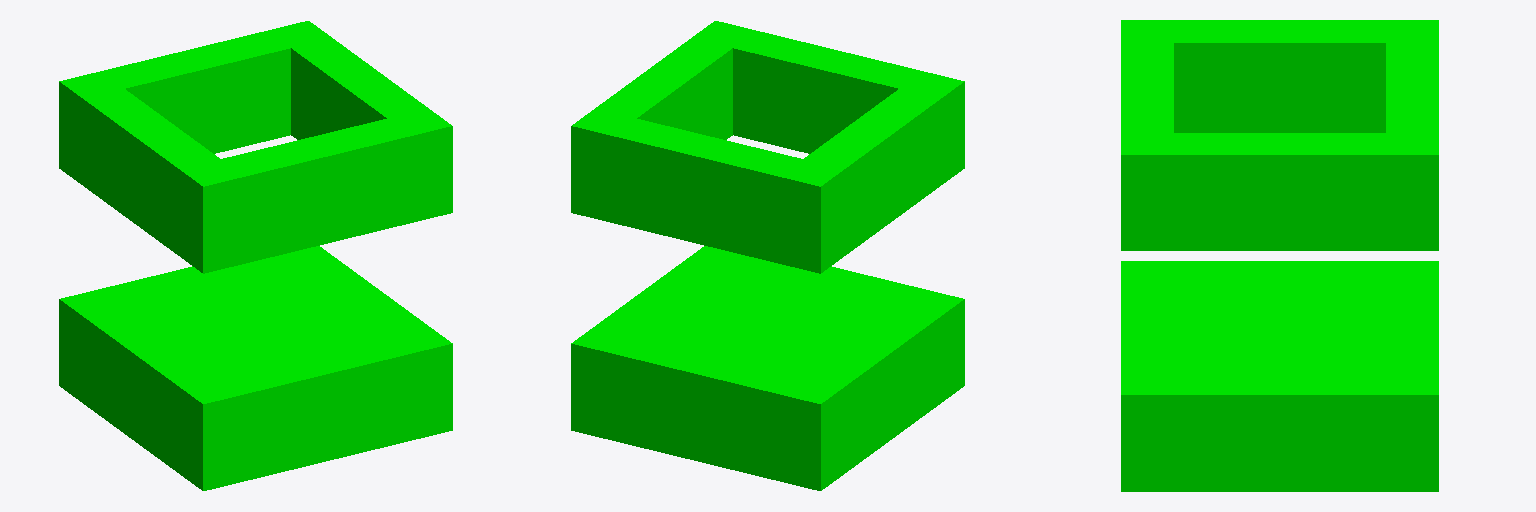
URDF robot description (root):
<?xml version="0.0" ?>
<robot name="root">
  <link name="base">
    <inertial>
      <origin rpy="0 0 0" xyz="0 0 0"/>
      <mass value="0.001"/>
      <inertia ixx="-4.46E-06" ixy="-4.55E-07" ixz="1.95E-06" iyy="-2.47E-06" iyz="8.51E-08" izz="2.17E-06"/>
    </inertial>
    <visual>
      <origin rpy="0 0 0" xyz="0 0 -0.05"/>
      <geometry>
        <box size=".06 .06 0.02"/>
      </geometry>
      <material name="green">
      </material> 
    </visual>
    <collision>
      <origin rpy="0 0 0" xyz="0 0 -0.05"/>
      <geometry>
        <box size=".06 .06 0.02"/>
      </geometry>
    </collision>
  </link>

  <link name="left">
    <inertial>
      <origin rpy="0 0 0" xyz="0 0 0"/>
      <mass value="0.001"/>
      <inertia ixx="-4.46E-06" ixy="-4.55E-07" ixz="1.95E-06" iyy="-2.47E-06" iyz="8.51E-08" izz="2.17E-06"/>
    </inertial>
    <visual>
      <origin rpy="0 0 0" xyz="0.025 0.0 0"/>
      <geometry>
        <box size=".01 .06 0.02"/>
      </geometry>
      <material name="green">
      </material> 
    </visual>
    <collision>
      <origin rpy="0 0 0" xyz="0 0 0"/>
      <geometry>
        <box size=".01 .06 0.02"/>
      </geometry>
    </collision>
  </link>

  <joint name="left_joint" type="fixed">
    <origin rpy="0 0 0" xyz="0 0 0"/>
    <parent link="base"/>
    <child link="left"/>
  </joint>

  <link name="right">
    <inertial>
      <origin rpy="0 0 0" xyz="0 0 0"/>
      <mass value="0.001"/>
      <inertia ixx="-4.46E-06" ixy="-4.55E-07" ixz="1.95E-06" iyy="-2.47E-06" iyz="8.51E-08" izz="2.17E-06"/>
    </inertial>
    <visual>
      <origin rpy="0 0 0" xyz="-0.025 0.0 0"/>
      <geometry>
        <box size=".01 .06 0.02"/>
      </geometry>
      <material name="green">
      </material> 
    </visual>
    <collision>
      <origin rpy="0 0 0" xyz="-0.025 0 0"/>
      <geometry>
        <box size=".01 .06 0.02"/>
      </geometry>
    </collision>
  </link>

  <joint name="right_joint" type="fixed">
    <origin rpy="0 0 0" xyz="0 0 0"/>
    <parent link="base"/>
    <child link="right"/>
  </joint>

  <link name="front">
    <inertial>
      <origin rpy="0 0 0" xyz="0 0 0"/>
      <mass value="0.001"/>
      <inertia ixx="-4.46E-06" ixy="-4.55E-07" ixz="1.95E-06" iyy="-2.47E-06" iyz="8.51E-08" izz="2.17E-06"/>
    </inertial>
    <visual>
      <origin rpy="0 0 0" xyz="0 0.025 0"/>
      <geometry>
        <box size=".06 .01 0.02"/>
      </geometry>
      <material name="green">
      </material> 
    </visual>
    <collision>
      <origin rpy="0 0 0" xyz="0 0.025 0"/>
      <geometry>
        <box size=".06 .01 0.02"/>
      </geometry>
    </collision>
  </link>

  <joint name="front_joint" type="fixed">
    <origin rpy="0 0 0" xyz="0 0 0"/>
    <parent link="base"/>
    <child link="front"/>
  </joint>

  <link name="rear">
    <inertial>
      <origin rpy="0 0 0" xyz="0 0 0"/>
      <mass value="0.001"/>
      <inertia ixx="-4.46E-06" ixy="-4.55E-07" ixz="1.95E-06" iyy="-2.47E-06" iyz="8.51E-08" izz="2.17E-06"/>
    </inertial>
    <visual>
      <origin rpy="0 0 0" xyz="0 -0.025 0"/>
      <geometry>
        <box size=".06 .01 0.02"/>
      </geometry>
      <material name="green">
      </material> 
    </visual>
    <collision>
      <origin rpy="0 0 0" xyz="0 -0.025 0"/>
      <geometry>
        <box size=".06 .01 0.02"/>
      </geometry>
    </collision>
  </link>

  <joint name="rear_joint" type="fixed">
    <origin rpy="0 0 0" xyz="0 0 0"/>
    <parent link="base"/>
    <child link="rear"/>
  </joint>


  <material name="panda_white">
    <color rgba="1. 1. 1. 1."/>
  </material>
  <material name="red">
    <color rgba="1.0 0. 0. 1.0"/>
  </material>
  <material name="blue">
    <color rgba="0. 0. 1. 1.0"/>
  </material>
  <material name="green">
    <color rgba="0. 1. 0. 1.0"/>
  </material>
<material name="Yellow">
  <color rgba="0.949 0.878 0.0392 1.0"/>
</material>
<material name="Blue">
  <color rgba="0.12156 0.3804 0.6745 1.0"/>
</material>
<material name="Red">
  <color rgba="0.9254901 0.243137 0.086274509 1.0"/>
</material>


</robot>

--- What the picture shows (computed from the rendered views, not written in the file) ---
3 views of the same robot in one strip: view 1: azimuth 30°, elevation 25°; view 2: azimuth 150°, elevation 25°; view 3: azimuth 270°, elevation 25° (orthographic).
Robot: root — 5 links, 4 joints (4 fixed); root link base; default pose: all joints at 0.
Links seen in each view (by area): view 1: base, rear, right, front, left; view 2: base, front, right, rear, left; view 3: base, left, right, rear, front.
Link boxes in pixels (x1,y1,x2,y2): base: [59, 246, 452, 490]; rear: [179, 109, 452, 272]; right: [59, 73, 244, 273]; front: [59, 21, 331, 179]; left: [268, 21, 452, 222]; base: [571, 246, 964, 490]; front: [571, 111, 844, 272]; right: [779, 74, 964, 273]; rear: [692, 21, 964, 167]; left: [571, 21, 755, 222]; base: [1121, 261, 1438, 491]; left: [1121, 133, 1438, 250]; right: [1121, 20, 1438, 132]; rear: [1121, 20, 1173, 250]; front: [1386, 20, 1438, 250].
Bounding box of the posed robot: 0.06 × 0.06 × 0.07 m (x, y, z).
Geometry: primitives only (box / cylinder / sphere), no mesh files.